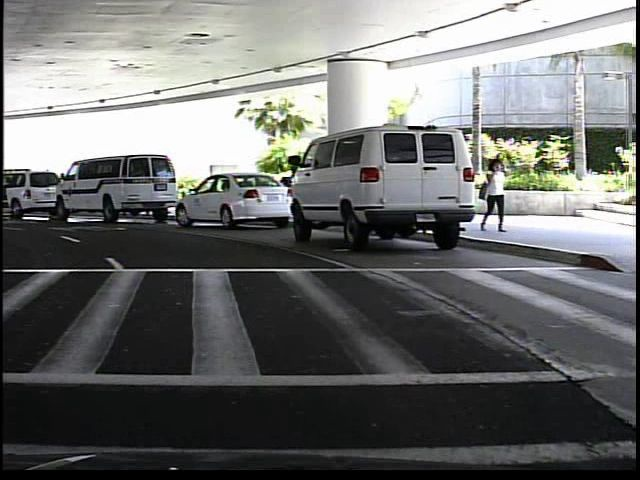person: (477, 153, 507, 234)
